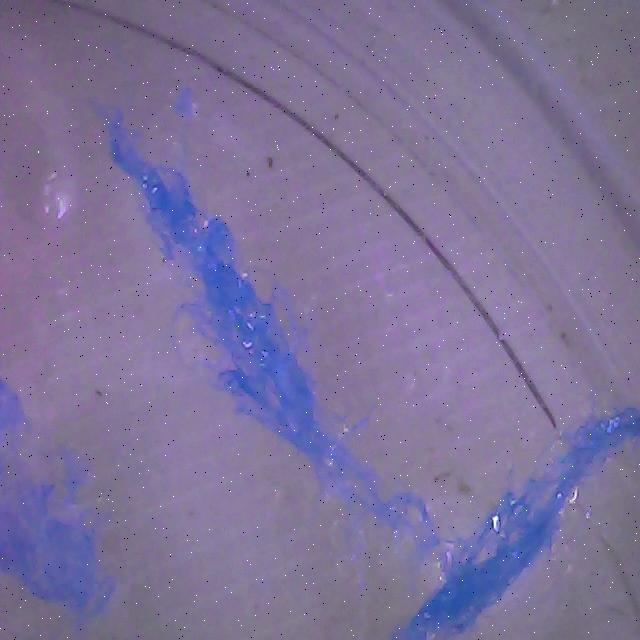fibers: (56, 94, 448, 591), (0, 364, 121, 639), (1, 1, 1, 1)
